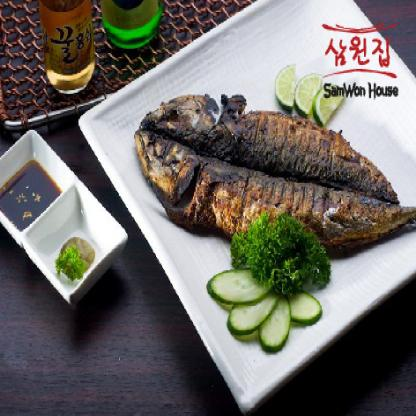Peixe: (127, 80, 400, 262)
